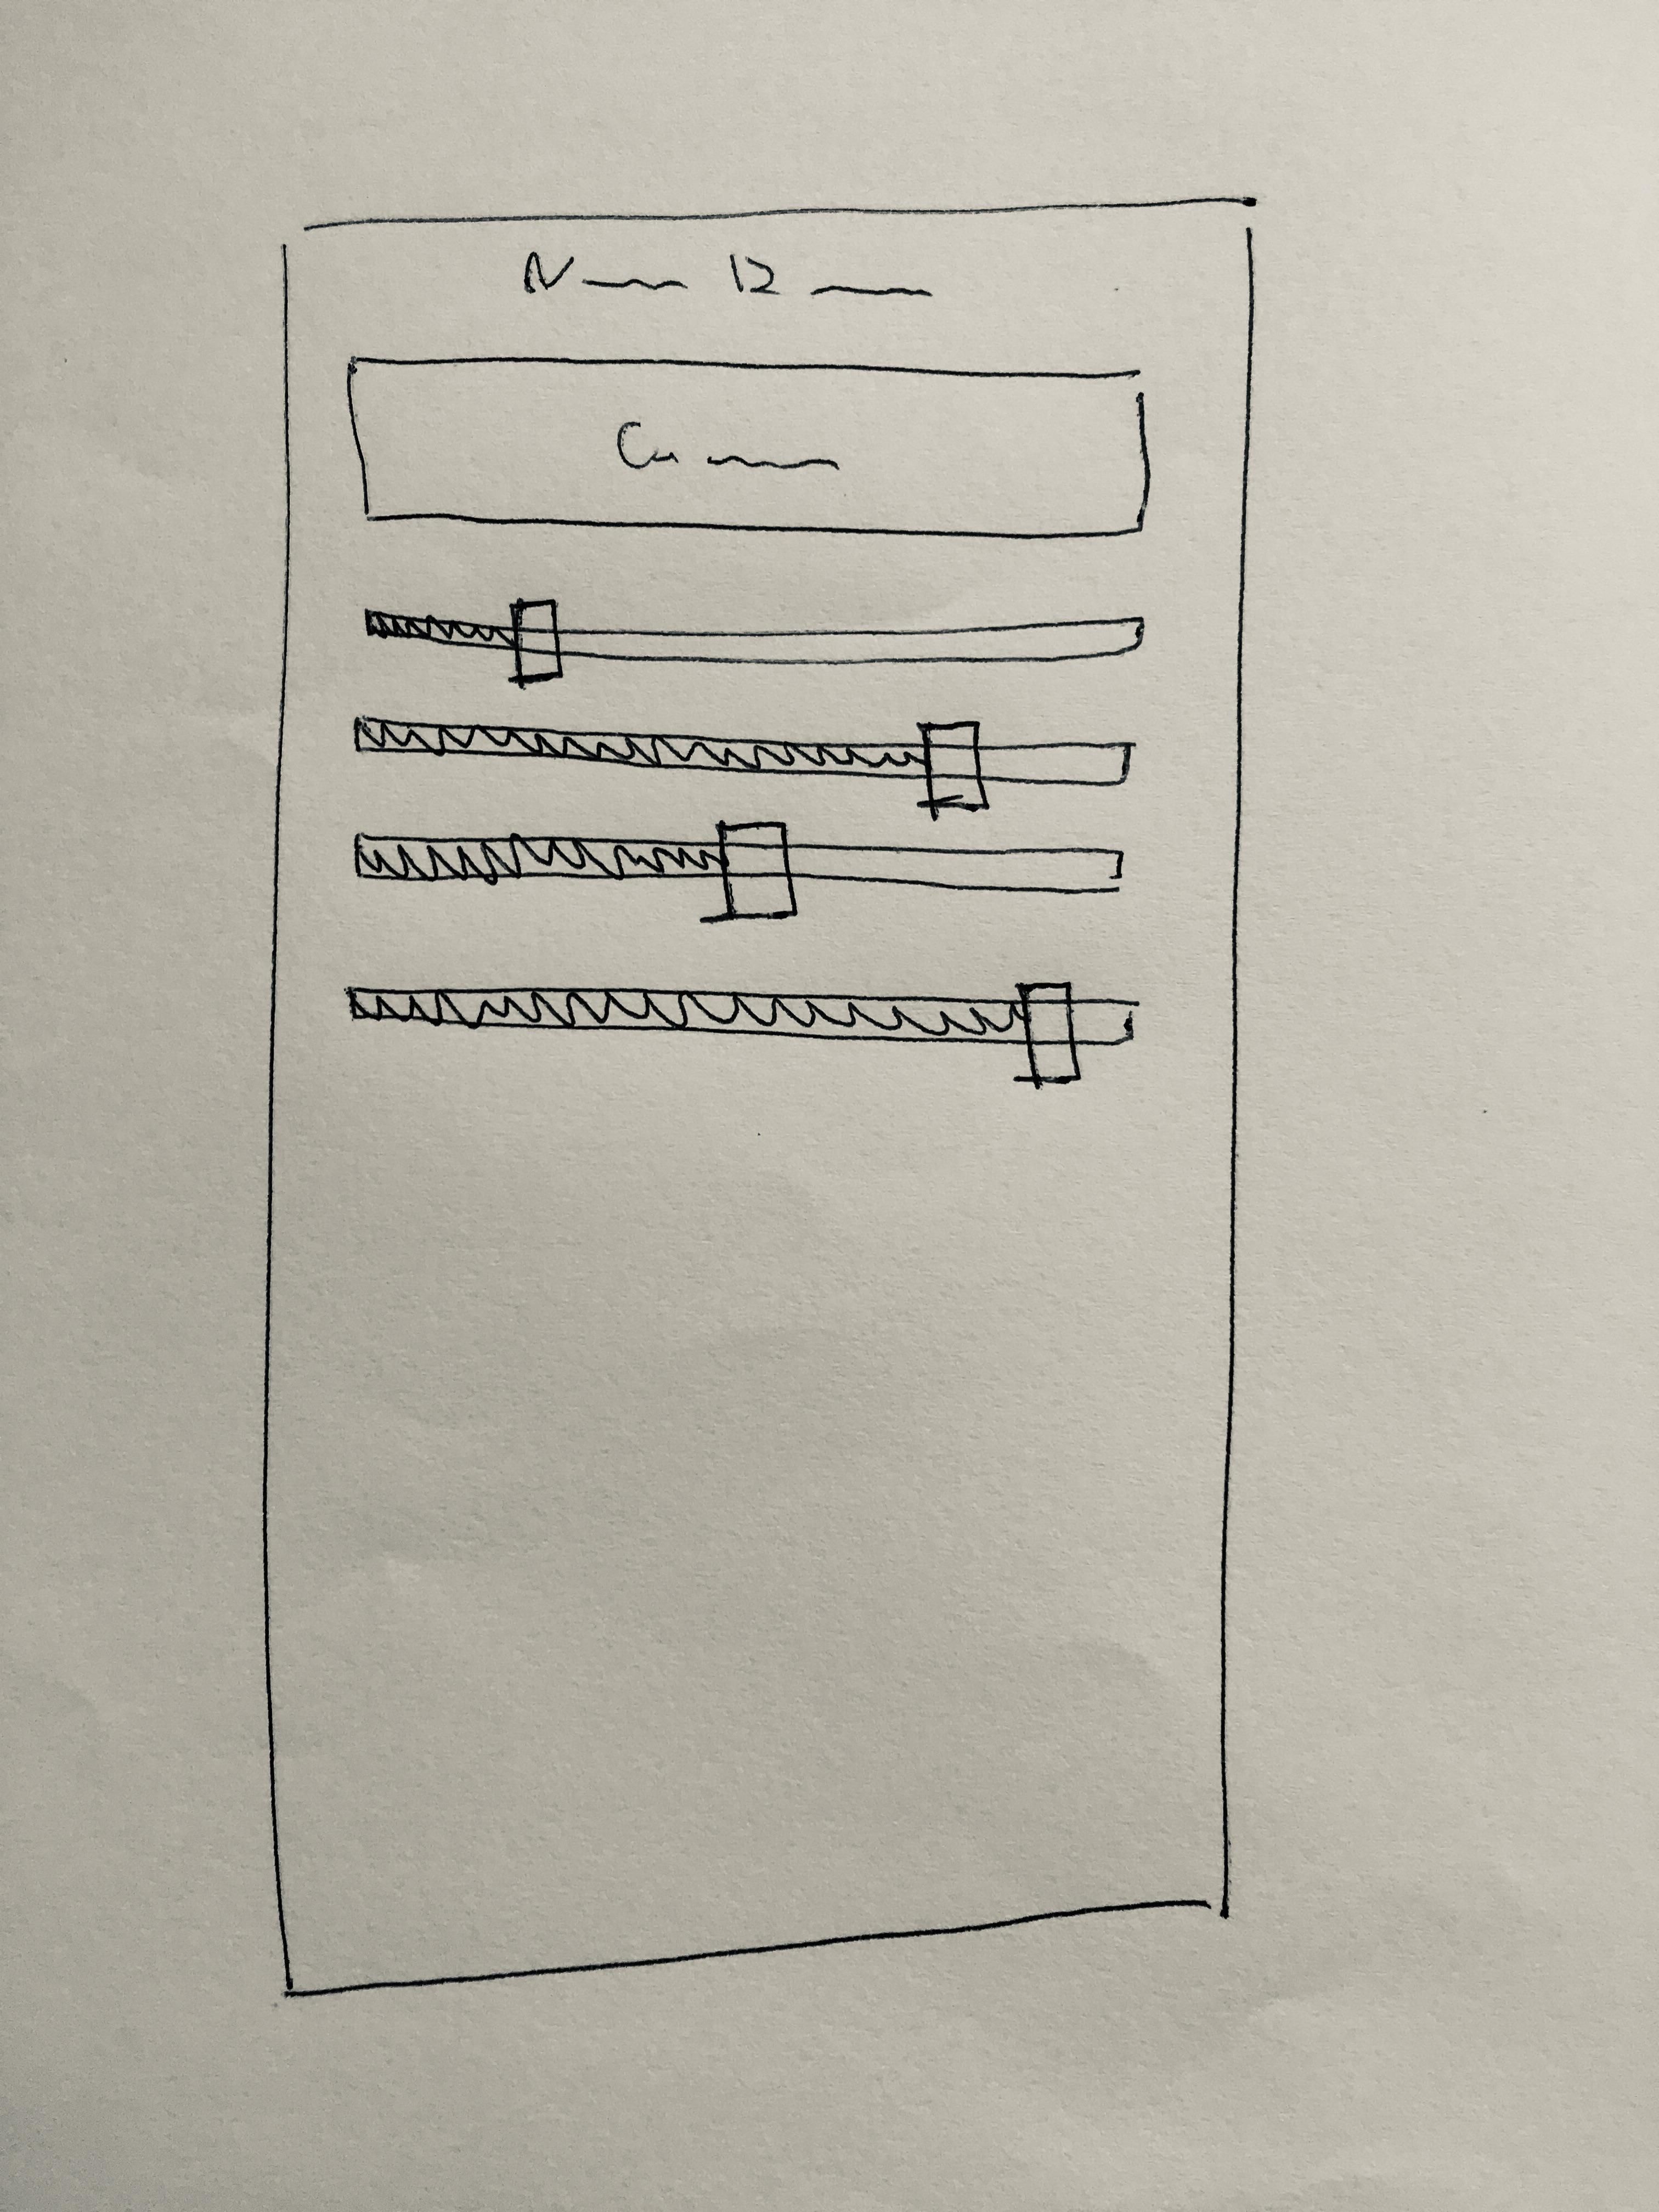Button: (343, 354, 1154, 536)
Label: (521, 249, 934, 307)
Screen: (260, 197, 1256, 1998)
Slider: (356, 817, 1126, 921), (349, 984, 1138, 1083), (354, 719, 1131, 808), (362, 601, 1147, 686)
